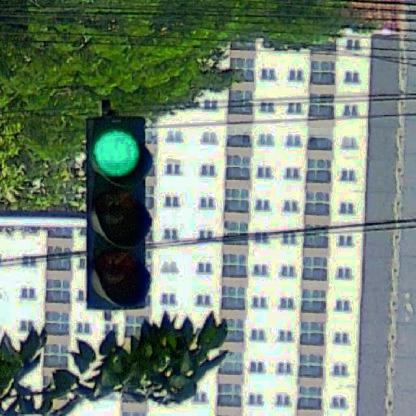Traffic Light -Green-: (84, 117, 150, 310)
